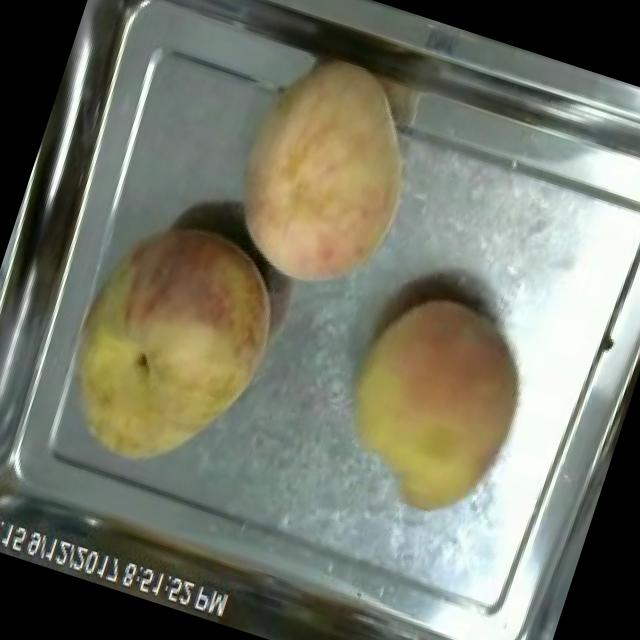Fruit: (28, 194, 306, 504), (202, 35, 450, 318), (312, 269, 554, 538)
